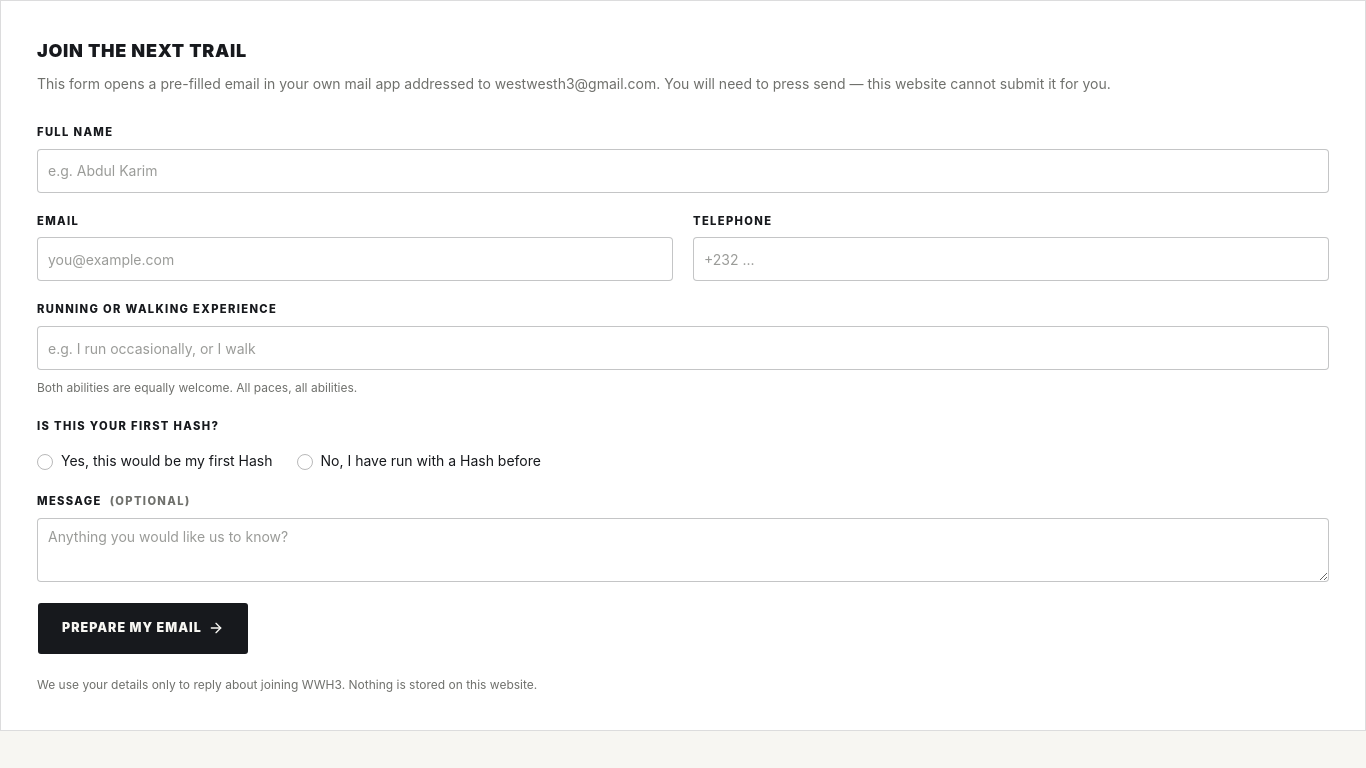
Test case: join form validation › requires an explicit answer to the first-time question
In the field labelled "Full name": (683, 170) [37,148,1329,192], type "Alpha Beta"
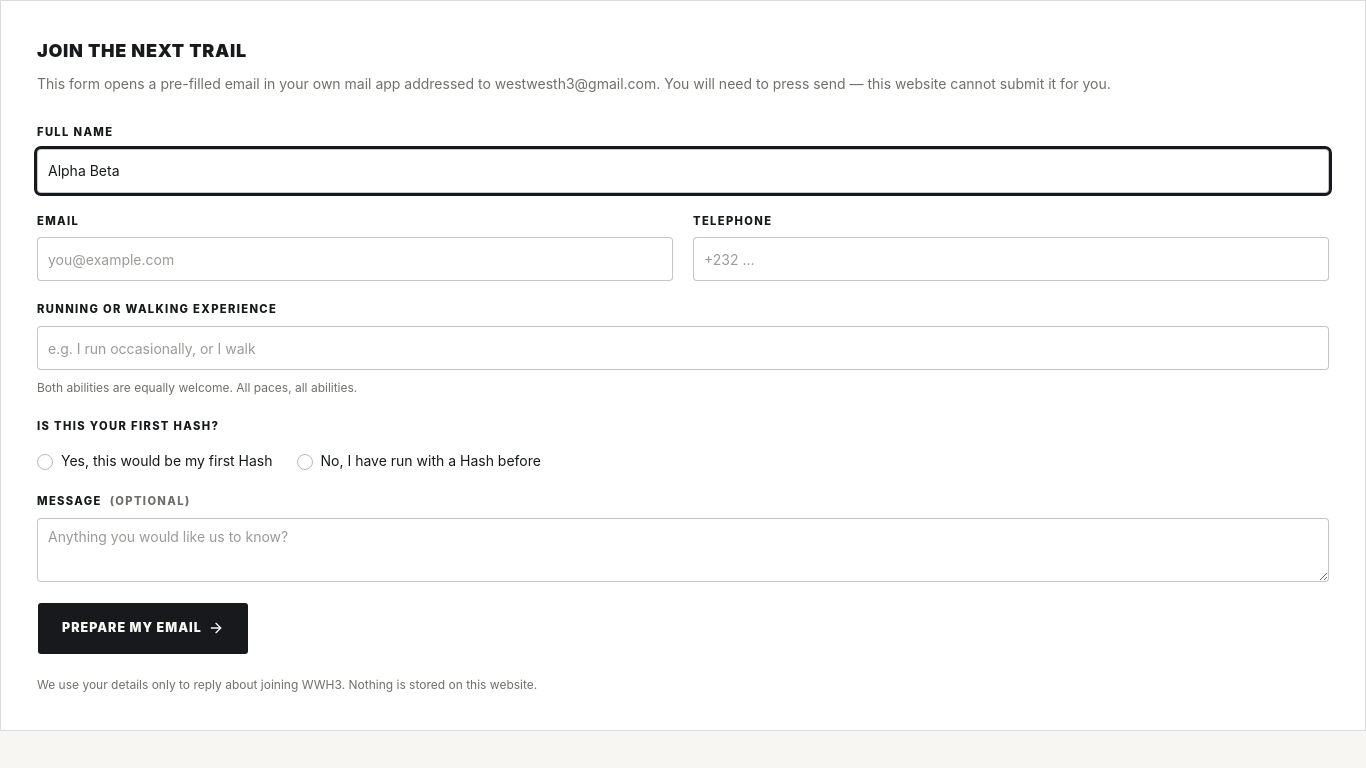
In the field labelled "Email": (355, 259) [37,237,673,281], type "alpha@example.com"
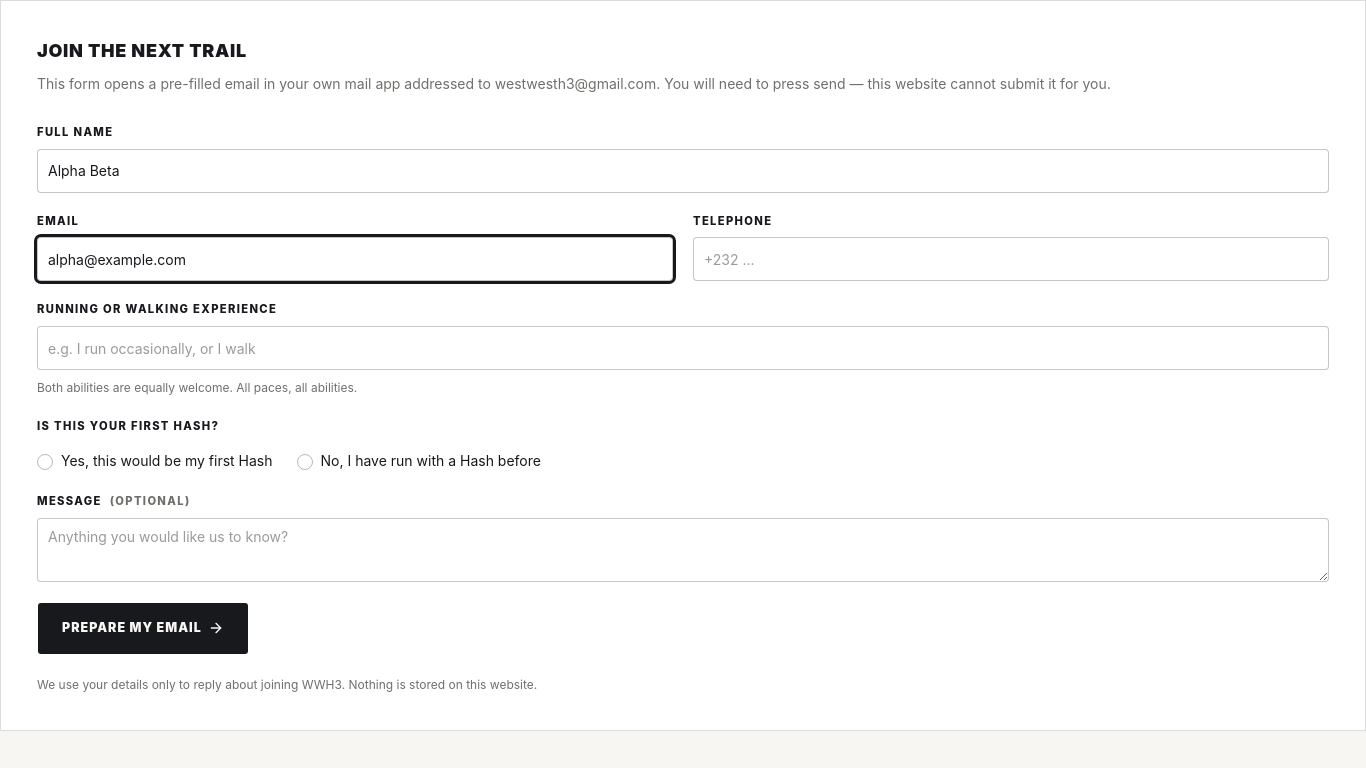
In the field labelled "Telephone": (1011, 259) [693,237,1329,281], type "+232 31 251240"
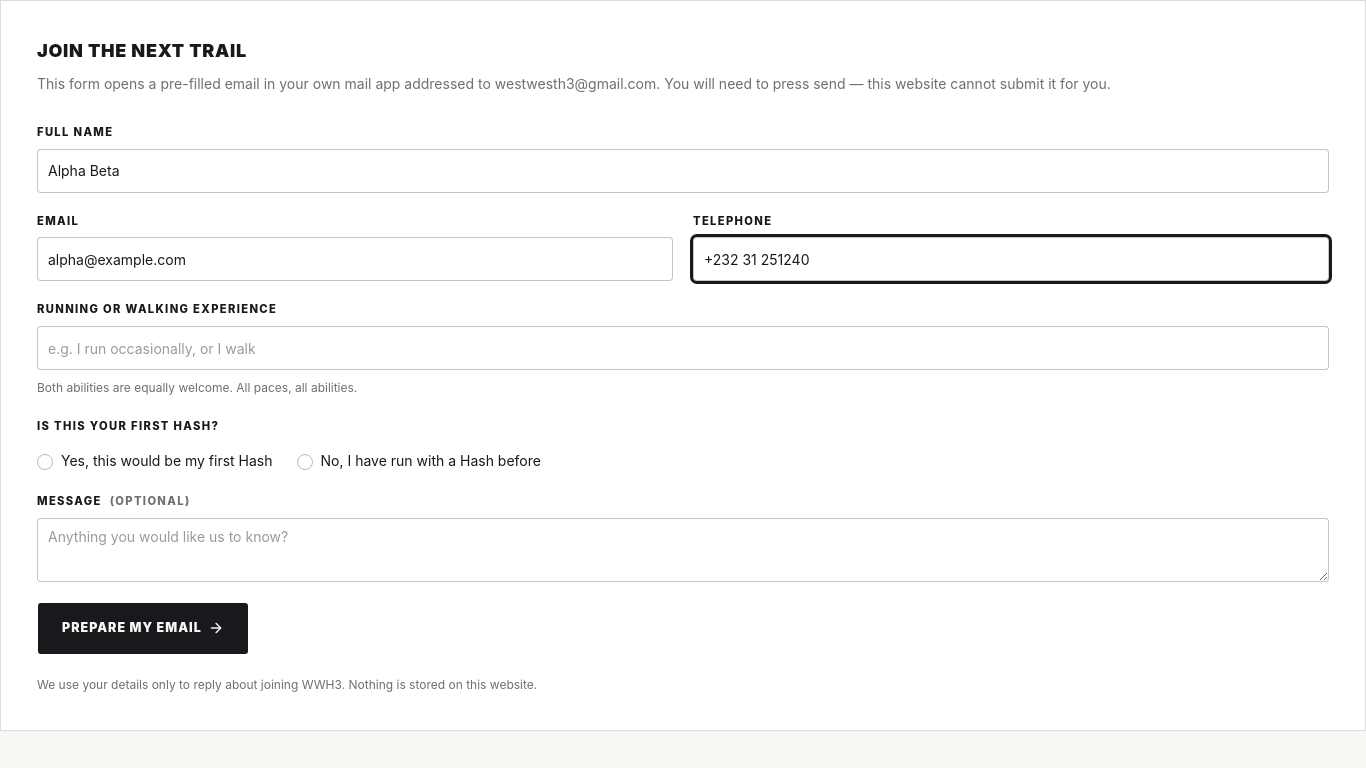
In the field labelled "Running or walking experience": (683, 348) [37,326,1329,370], type "I walk and run."
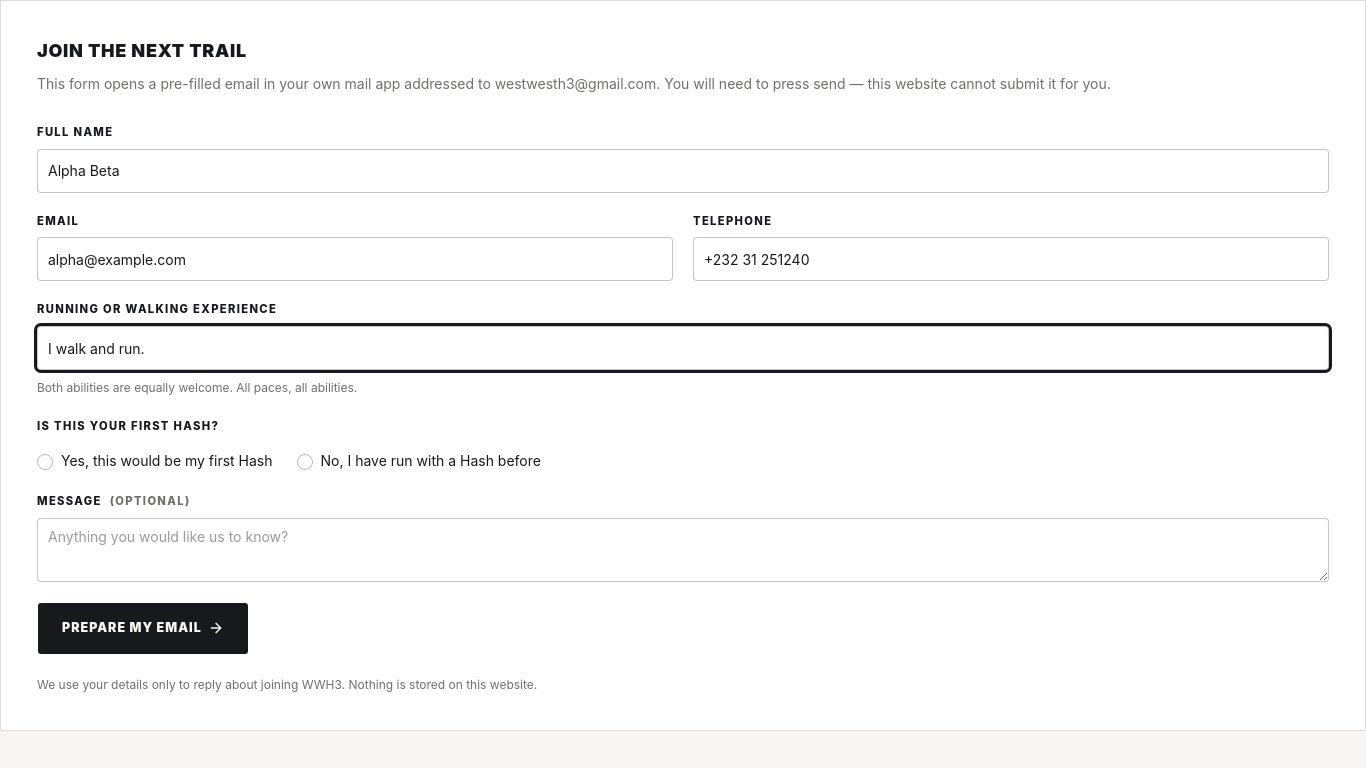
Click the button "Prepare my email": (143, 628) [37,602,249,655]
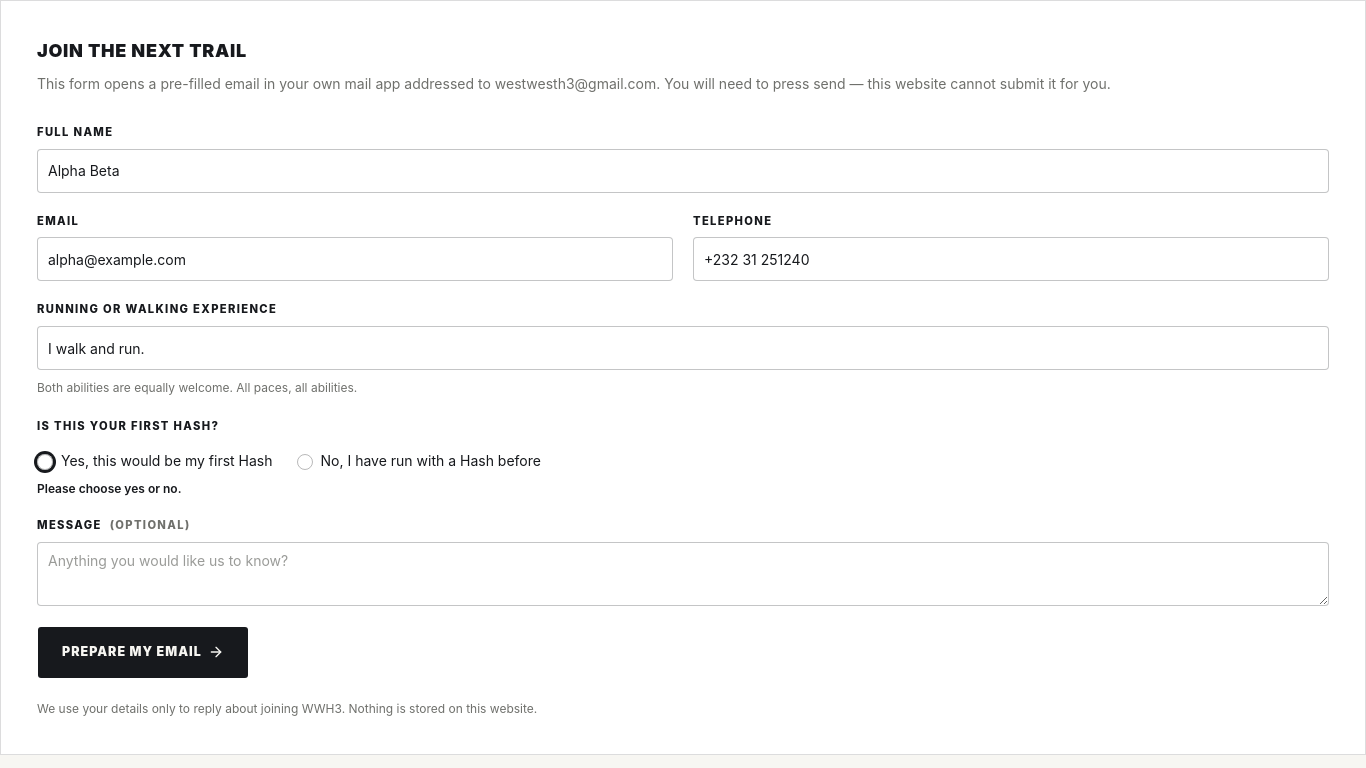
Expected: the text "Please choose yes or no." is shown, [37,481,182,496]
